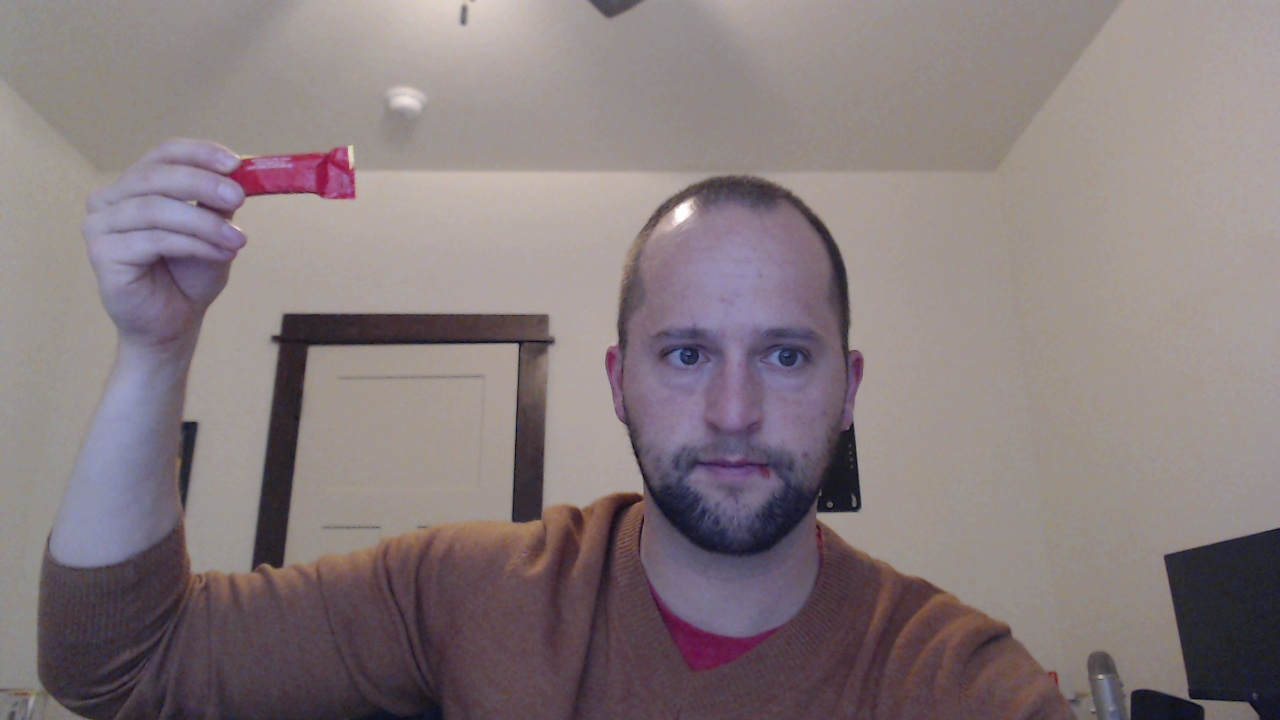starbust: (211, 130, 414, 211)
